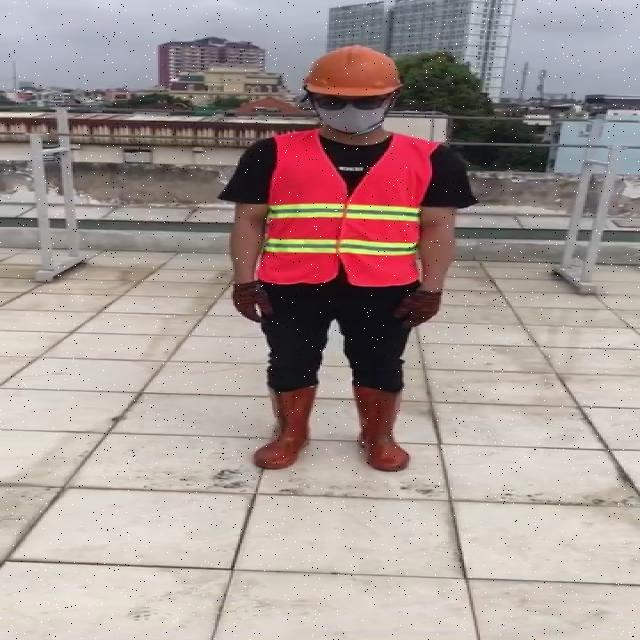Hard_hat: (299, 42, 407, 105)
Person: (214, 40, 480, 493)
Vest: (257, 130, 428, 286)
